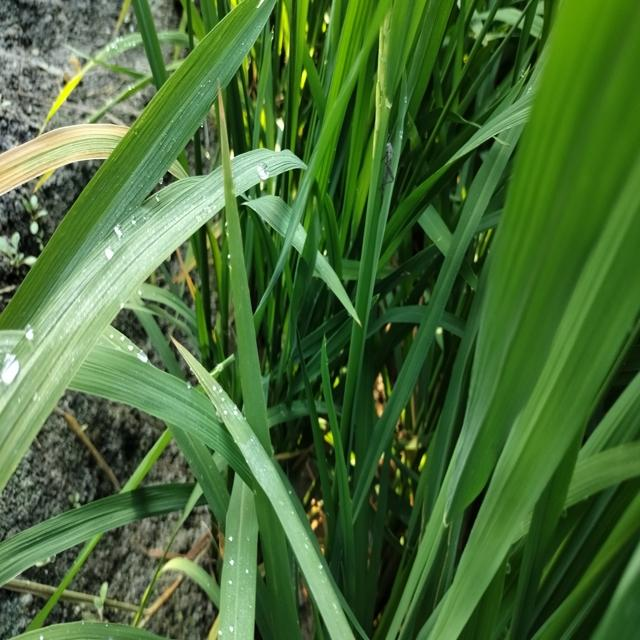Brown spot: (0, 116, 159, 200)
